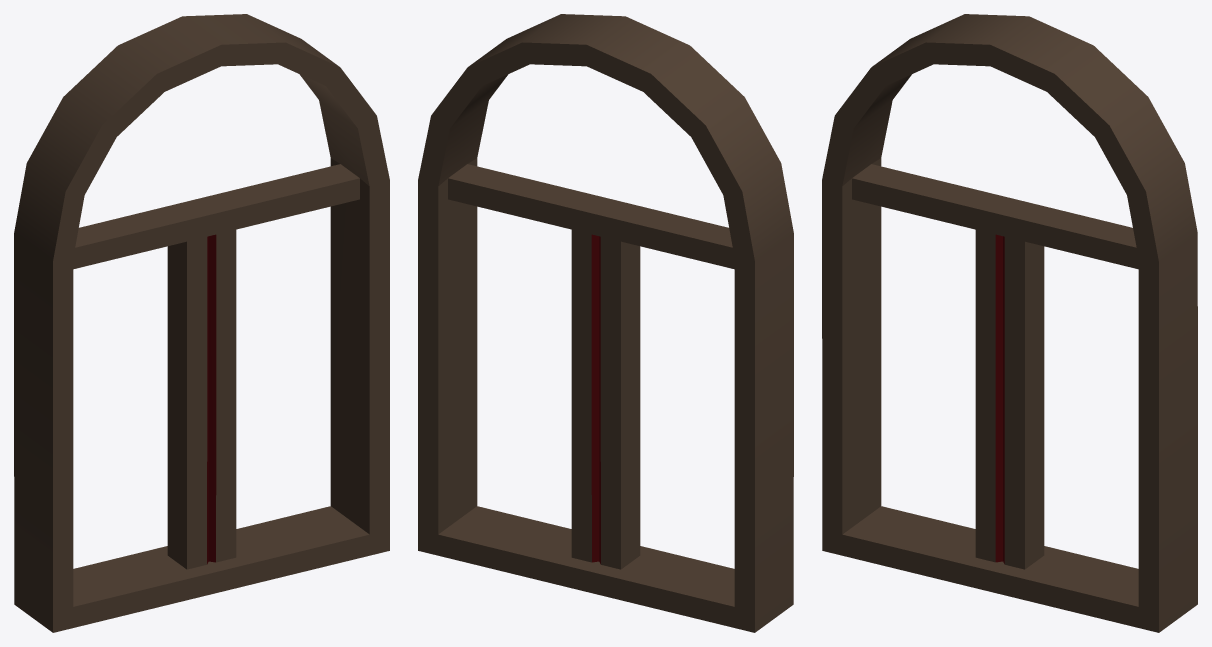
File: WindowRoundFrame1.fbx
The picture shows the model from 3 angles, left to right: view 1: azimuth 30°, elevation 25°; view 2: azimuth 150°, elevation 25°; view 3: azimuth 330°, elevation 25°; orthographic projection.
Visible parts, largest first — view 1: Wall_2m75; view 2: Wall_2m75; view 3: Wall_2m75.
Part boxes in pixels (<box>): Wall_2m75: <box>14,14,389,632</box>; Wall_2m75: <box>418,14,793,632</box>; Wall_2m75: <box>822,14,1197,632</box>.
Bounding box in the file's own units: 100 × 155 × 20.
